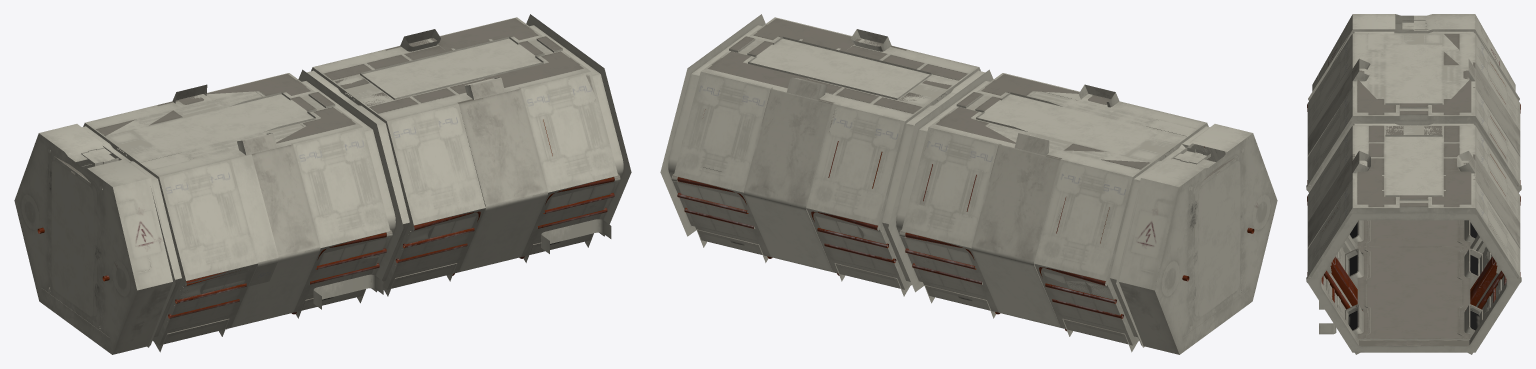
The model's file is corridor.glb.
The picture shows the model from 3 angles, left to right: view 1: azimuth 30°, elevation 25°; view 2: azimuth 150°, elevation 25°; view 3: azimuth 270°, elevation 25°; orthographic projection. The views are drawn at different scales.
Visible parts, largest first — view 1: Cylinder.005, Cylinder.006; view 2: Cylinder.005, Cylinder.006; view 3: Cylinder.005, Cylinder.006.
Part boxes in pixels (box(x1,y1,x2,y2)): Cylinder.005: box(76, 14, 631, 352); Cylinder.006: box(14, 124, 174, 354); Cylinder.005: box(660, 14, 1226, 352); Cylinder.006: box(1117, 124, 1277, 354); Cylinder.005: box(1306, 29, 1521, 354); Cylinder.006: box(1312, 14, 1515, 91).
Size of the model in its own units: 1786 by 654 by 812.
6 materials, 4 textured.
